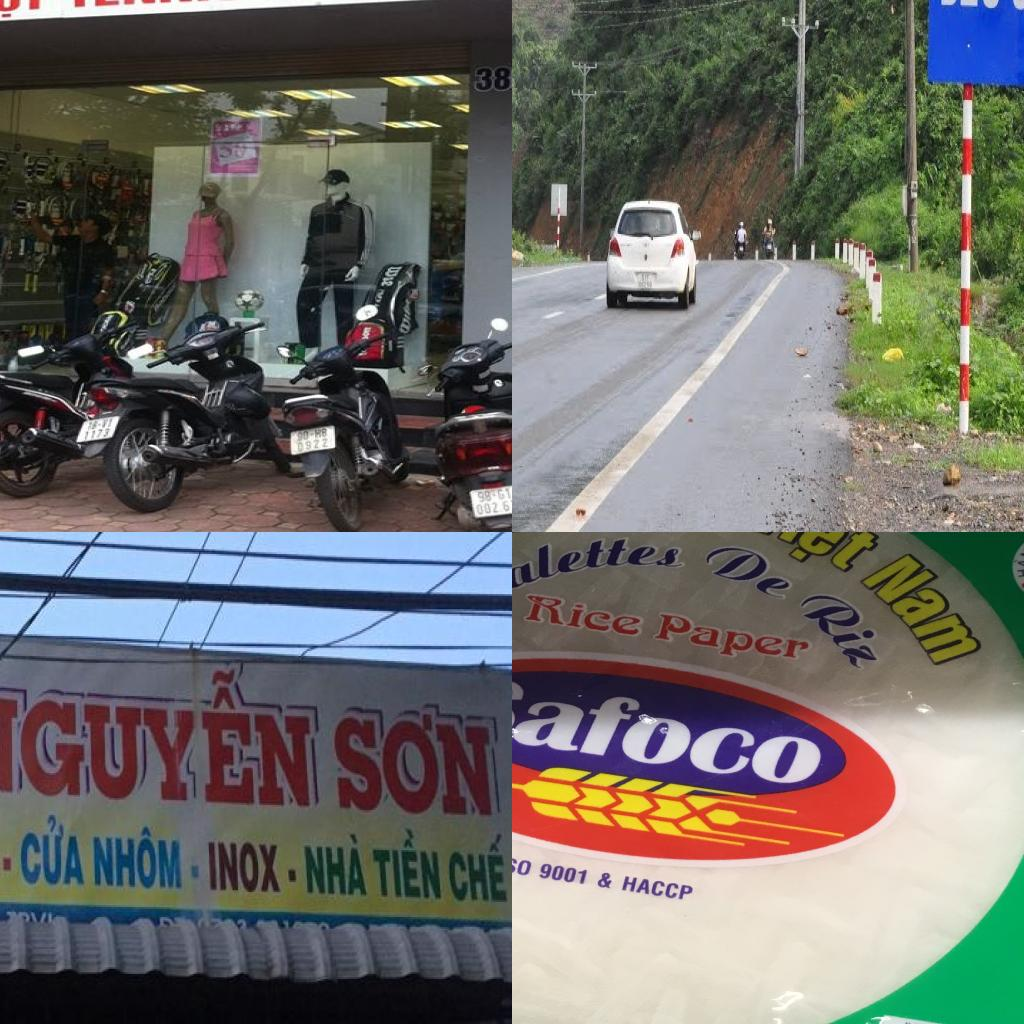text: (0, 649, 316, 811), (512, 667, 843, 793), (848, 538, 1005, 670), (328, 704, 496, 822), (512, 532, 687, 621), (784, 575, 905, 673), (647, 609, 813, 673), (694, 532, 810, 609), (738, 532, 898, 579), (520, 587, 652, 641), (90, 822, 184, 892), (370, 826, 445, 904), (18, 810, 88, 889), (302, 830, 370, 899), (207, 840, 283, 895), (620, 873, 697, 904), (536, 861, 590, 888), (66, 0, 247, 8), (0, 0, 49, 21), (473, 66, 512, 92), (1005, 532, 1024, 579), (215, 141, 249, 160), (474, 498, 512, 515), (512, 853, 538, 877), (476, 486, 512, 503), (295, 438, 331, 452), (595, 870, 618, 891), (380, 266, 404, 286), (298, 427, 329, 442), (84, 428, 115, 440), (1013, 578, 1024, 611), (398, 313, 413, 336)
